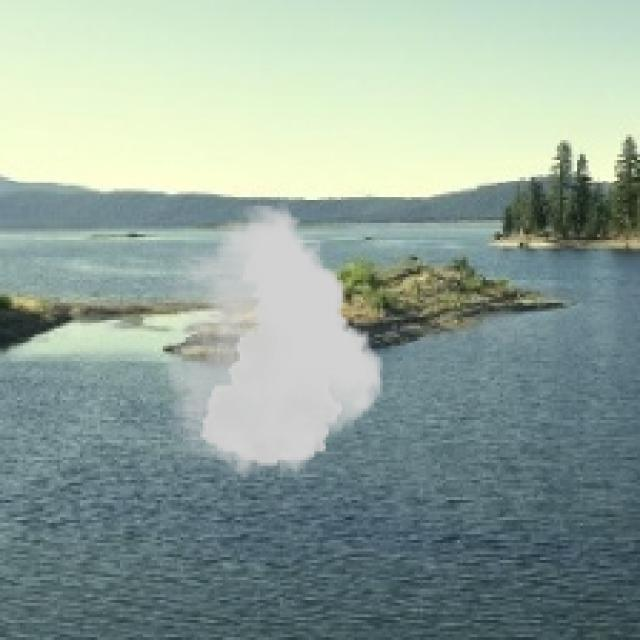Smoke: (168, 206, 382, 477)
